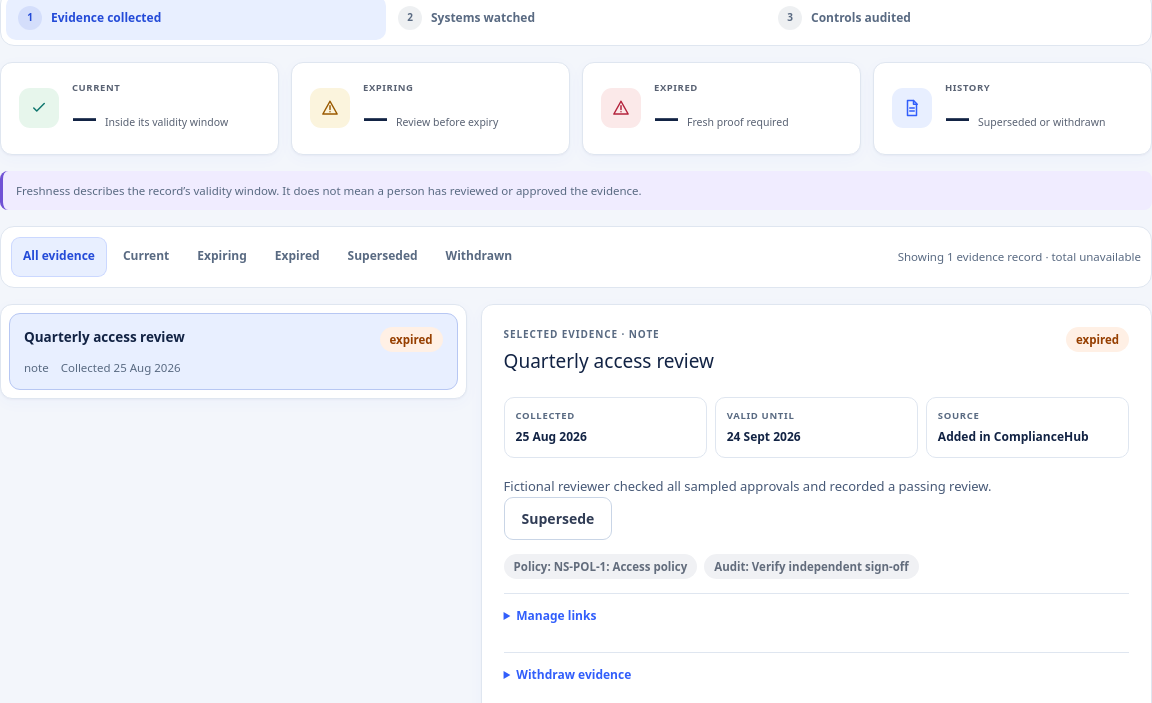
Test: EvidencePage Member branch › offers active risk and treatment task targets to operators
The image size is (1152, 703).
(page scrolled)
Click the heading "Manage links".
click(556, 616)  # box [516, 607, 596, 624]
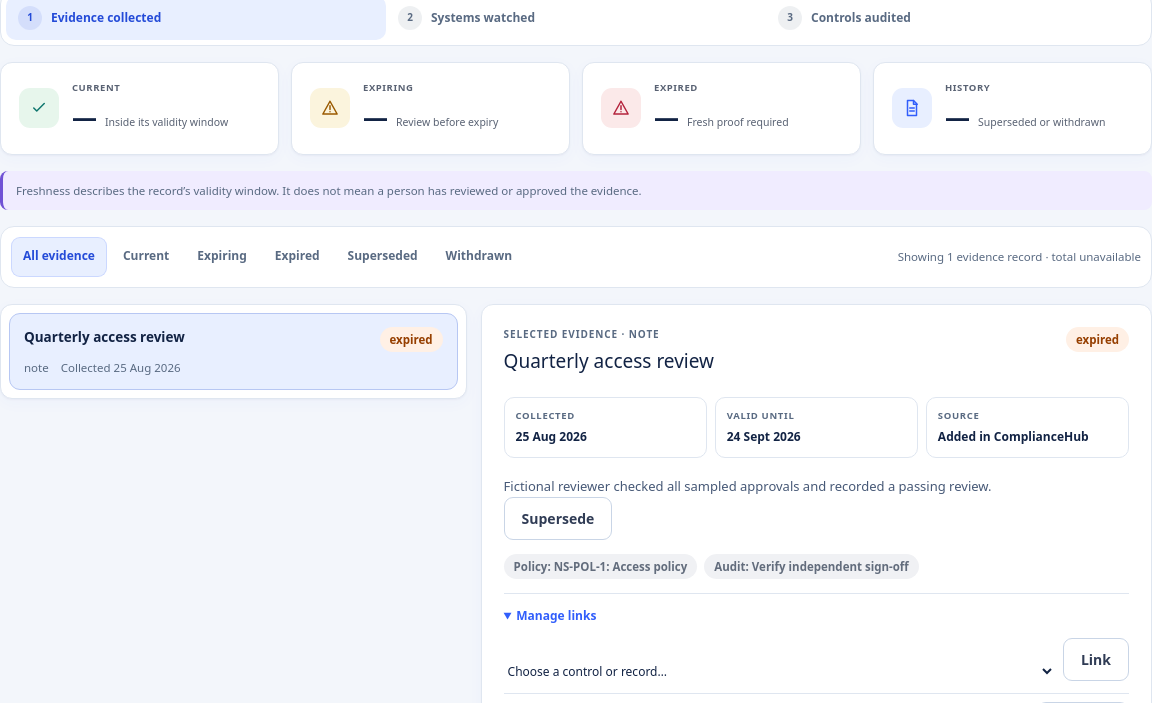
Expected: the dropdown named "Link Quarterly access review to a control" shows "Choose a control or record…", [504, 662, 1055, 681]
